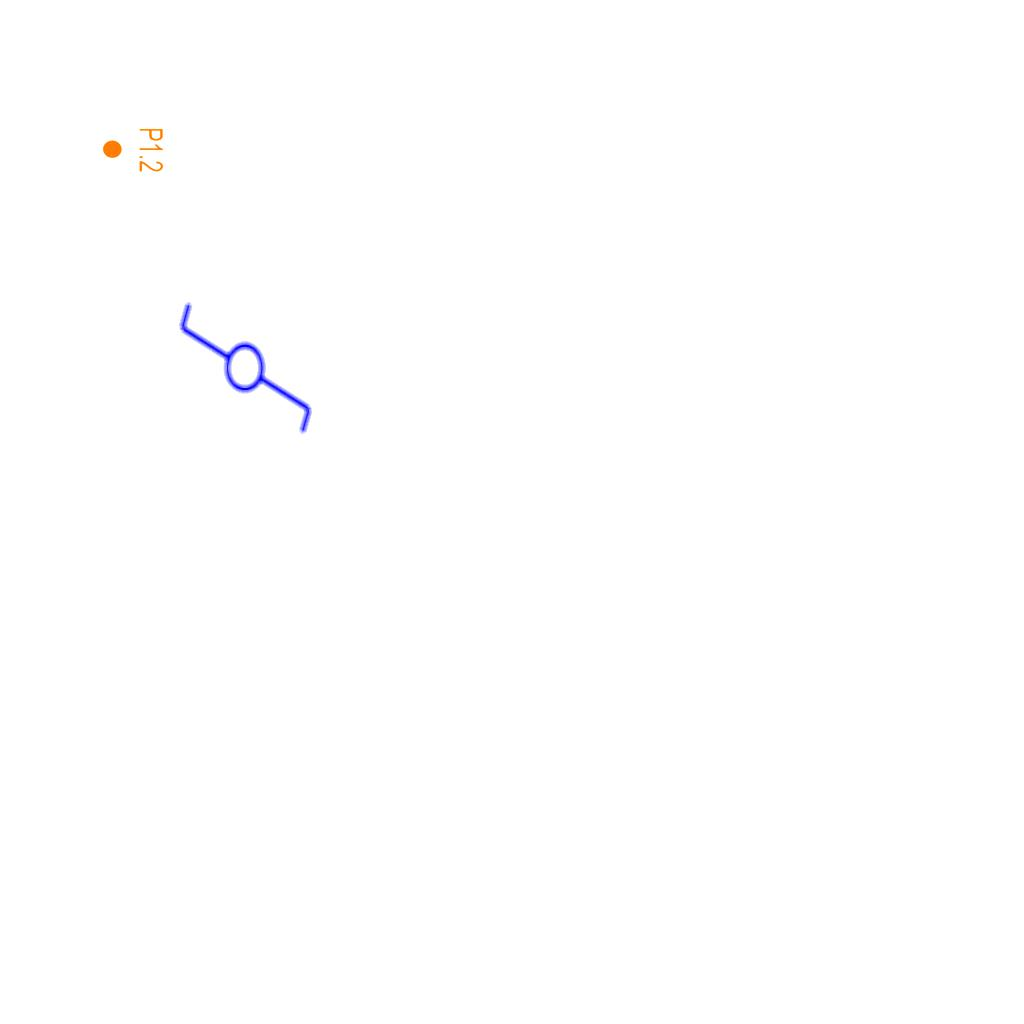Downlight_LED_Einbauleuchten_Flur: (101, 127, 165, 173)
Wechselschalter: (175, 281, 319, 438)
